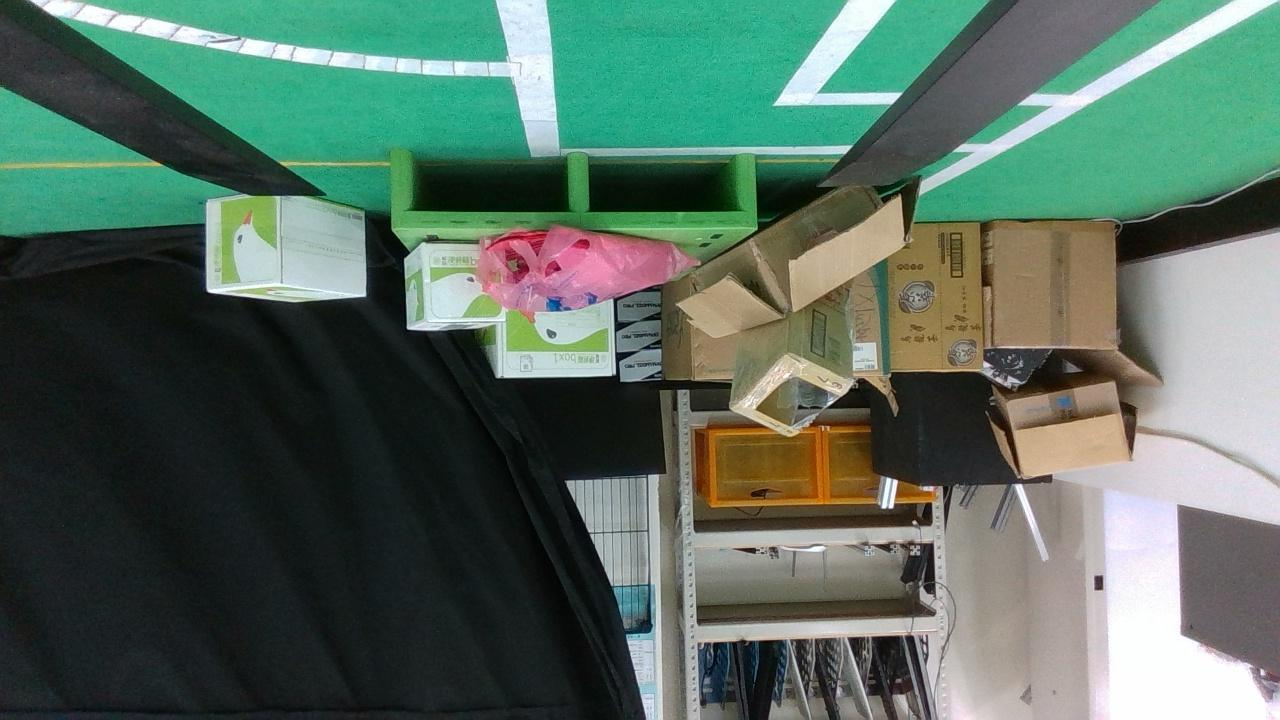Pallet: (386, 148, 755, 232)
